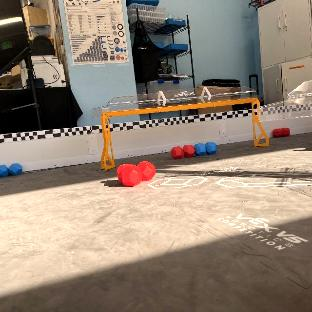V5_BLUE: (194, 142, 216, 155), (0, 163, 21, 176)
V5_RED: (117, 160, 155, 186), (171, 144, 195, 159), (273, 127, 290, 136)
